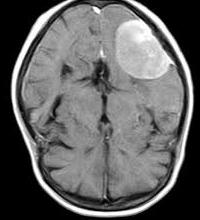Tumour-Meningioma: (103, 14, 179, 82)
